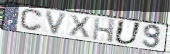9: (141, 23, 162, 50)
C: (19, 8, 44, 32)
H: (91, 16, 117, 44)
U: (112, 19, 143, 46)
V: (45, 10, 70, 36)
X: (68, 14, 92, 39)
